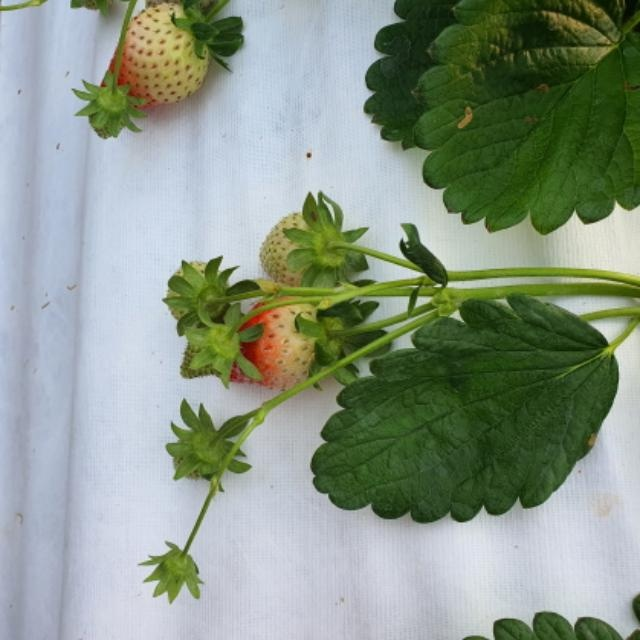Powdery Mildew Fruit: (234, 298, 323, 390)
